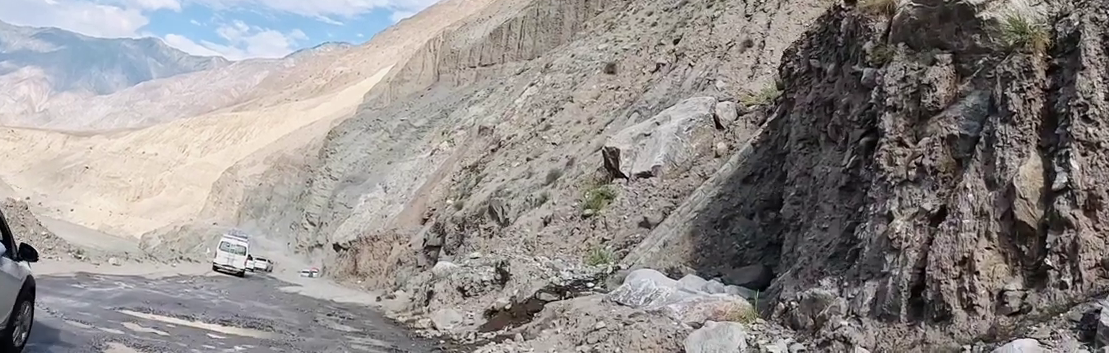unexpected: (212, 204, 652, 339)
